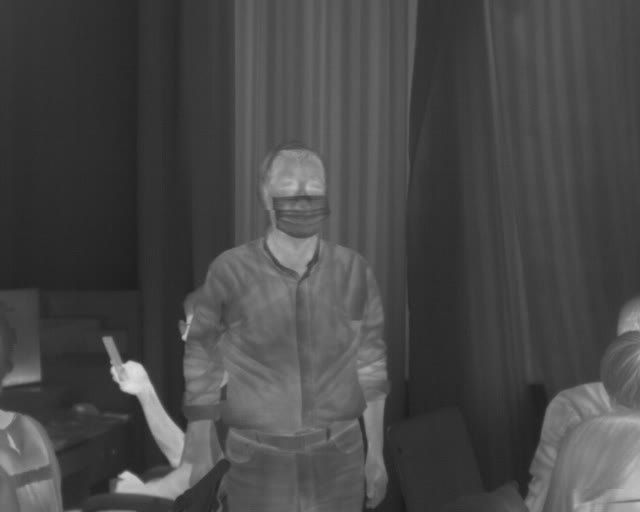face: (258, 141, 331, 239)
